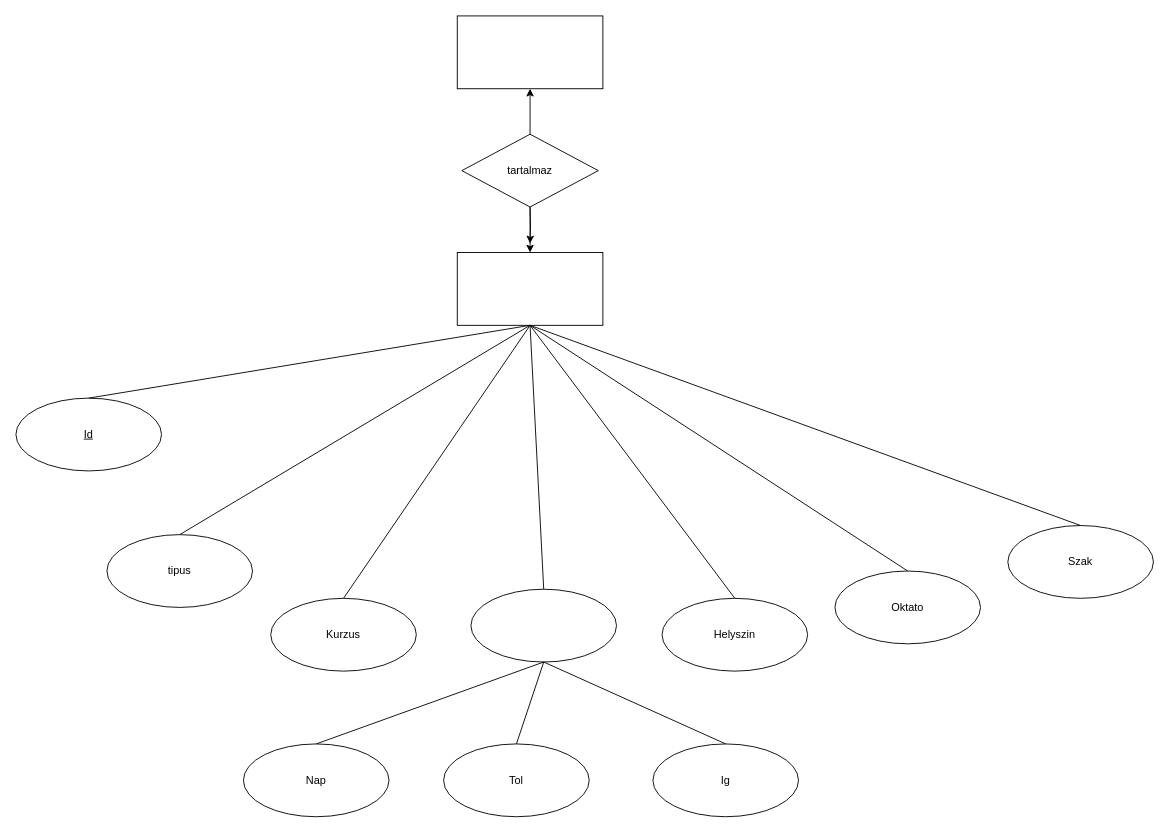
Some shapes in this 1169 by 833 pixel diagram are drawn without their labels. The centre of each missing label's shape, as x and y in pixels:
"Idopont" belongs at (x=543, y=625).
"NEPTUNKOD_orarend" belongs at (x=529, y=52).
"Ora" belongs at (x=529, y=288).
